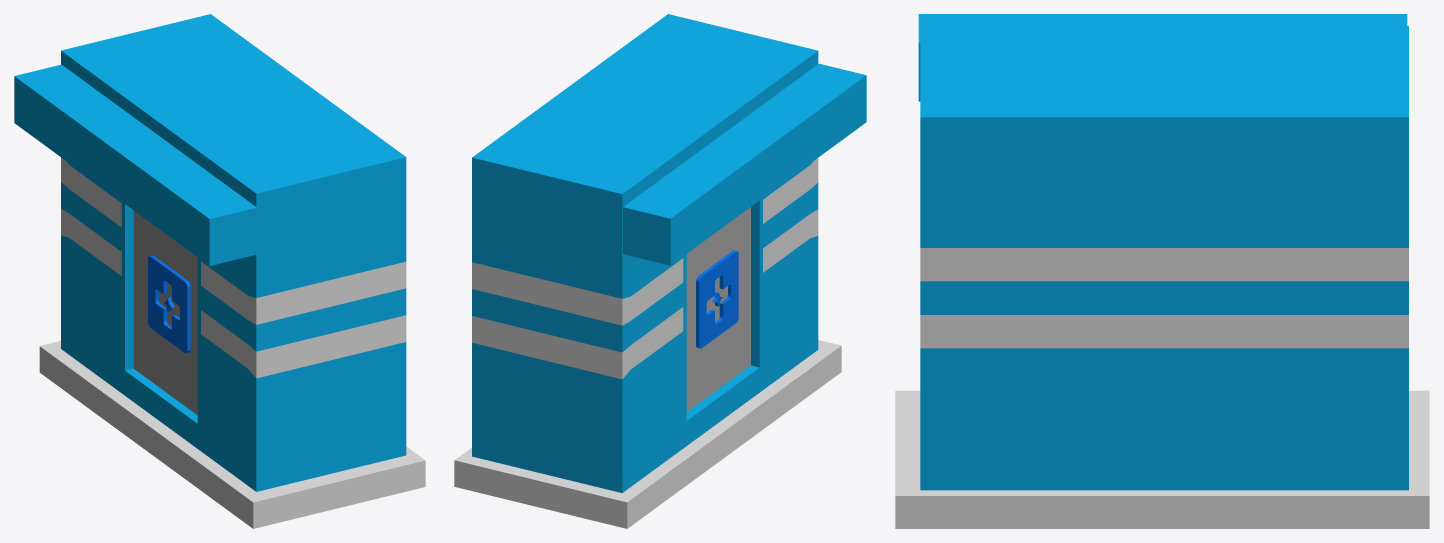
The model's file is bluebox1.glb.
3 views of the same model, side by side, from view 1: azimuth 30°, elevation 25°; view 2: azimuth 150°, elevation 25°; view 3: azimuth 270°, elevation 25° (orthographic). The views are drawn at different scales.
Visible parts, largest first — view 1: Cube.001, Cube.002, Cube, Cube.003, Curve; view 2: Cube.001, Cube.002, Cube.003, Cube, Curve; view 3: Cube.001, Cube.002.
Part boxes in pixels (<box>): Cube.001: <box>14,14,406,491</box>; Cube.002: <box>39,341,425,528</box>; Cube: <box>133,211,170,395</box>; Cube.003: <box>170,237,197,414</box>; Curve: <box>148,255,190,353</box>; Cube.001: <box>472,14,866,492</box>; Cube.002: <box>454,340,841,528</box>; Cube.003: <box>715,207,750,391</box>; Cube: <box>686,233,714,411</box>; Curve: <box>696,250,738,348</box>; Cube.001: <box>918,14,1408,490</box>; Cube.002: <box>895,390,1429,528</box>.
Bounding box in the file's own units: 1.83 × 2.75 × 3.28.
